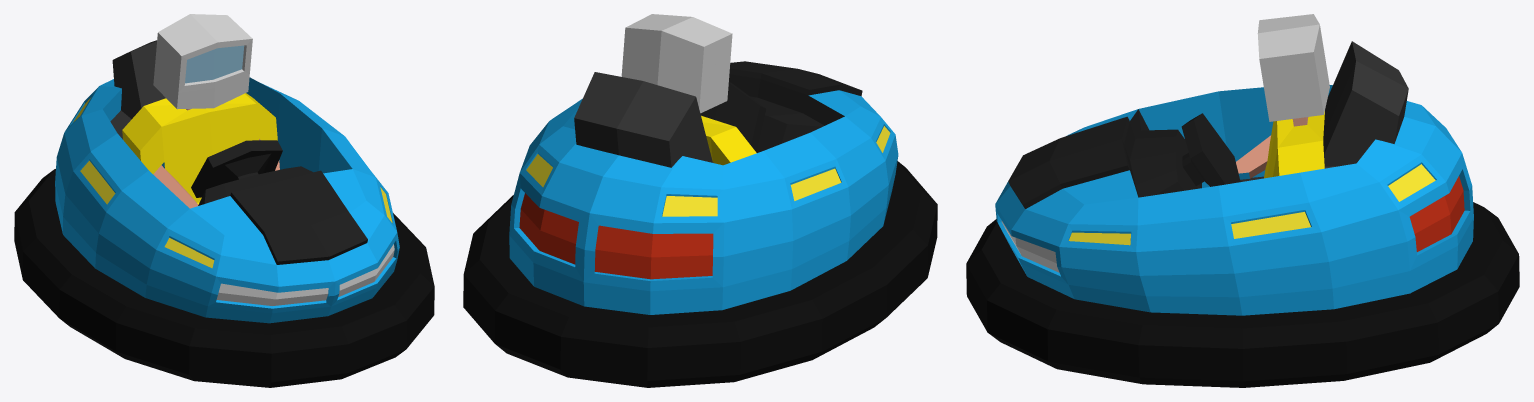
Rendered from Car1.fbx.
The picture shows the model from 3 angles, left to right: view 1: azimuth 30°, elevation 25°; view 2: azimuth 150°, elevation 25°; view 3: azimuth 270°, elevation 25°; orthographic projection. The views are drawn at different scales.
Visible parts, largest first — view 1: Cube; view 2: Cube; view 3: Cube.
Part boxes in pixels (x1,y1,x2,y2): Cube: [14, 14, 434, 387]; Cube: [463, 14, 937, 387]; Cube: [966, 14, 1519, 387].
Bounding box in the file's own units: 3.32 × 4.32 × 2.45.
